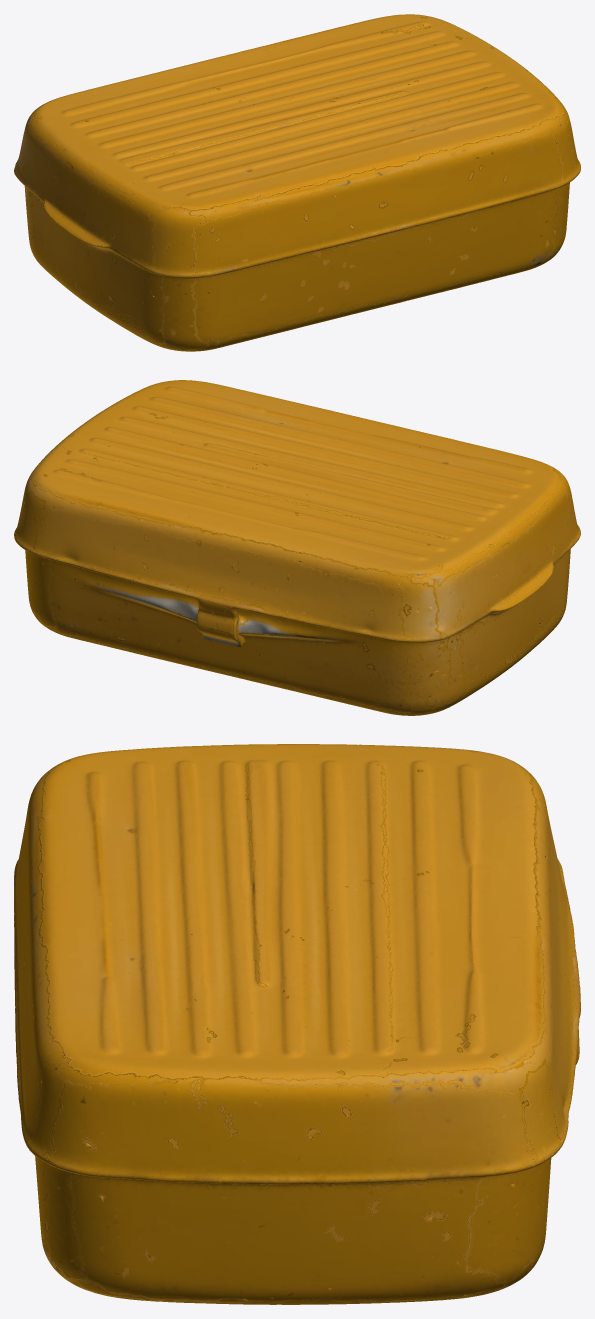
The picture shows the model from 3 angles, top to bottom: view 1: azimuth 30°, elevation 25°; view 2: azimuth 150°, elevation 25°; view 3: azimuth 270°, elevation 25°; orthographic projection. The views are drawn at different scales.
Bounding box in the file's own units: 1.85 × 0.5839 × 1.23.
Materials: 1 (1 with a texture image).
